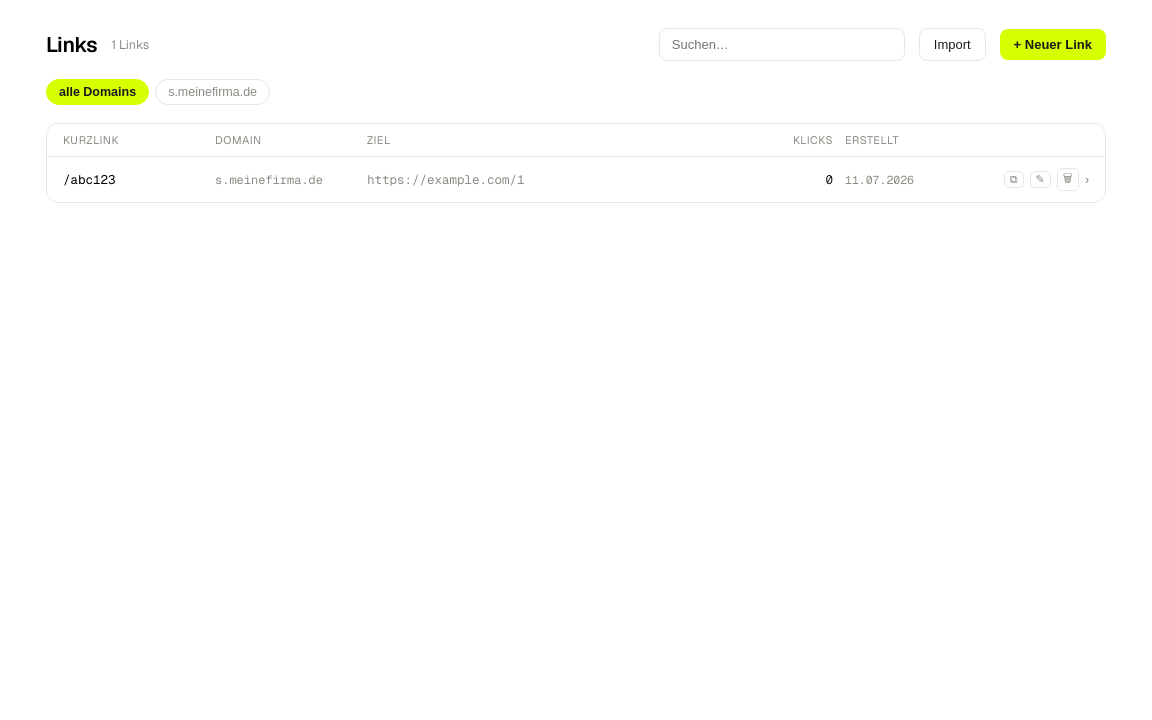
LinksView › edit mode renders the D-04 slug-change warning and saves via updateLink
Click the button titled "Bearbeiten" at (1040, 180), box [1030, 171, 1051, 188]
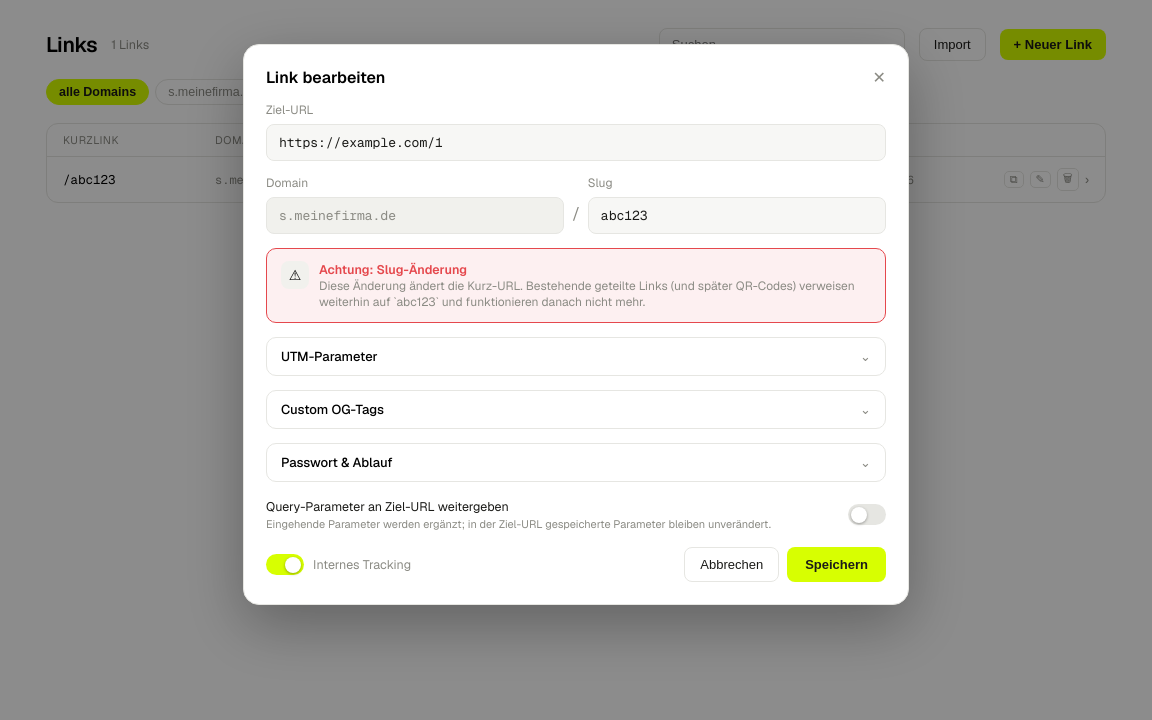
Now the text "Achtung: Slug-Änderung" is shown, box [319, 261, 467, 278]
Replace the text in the 2nd field with class "mono" with "new-slug" at (737, 216), box [588, 197, 886, 234]
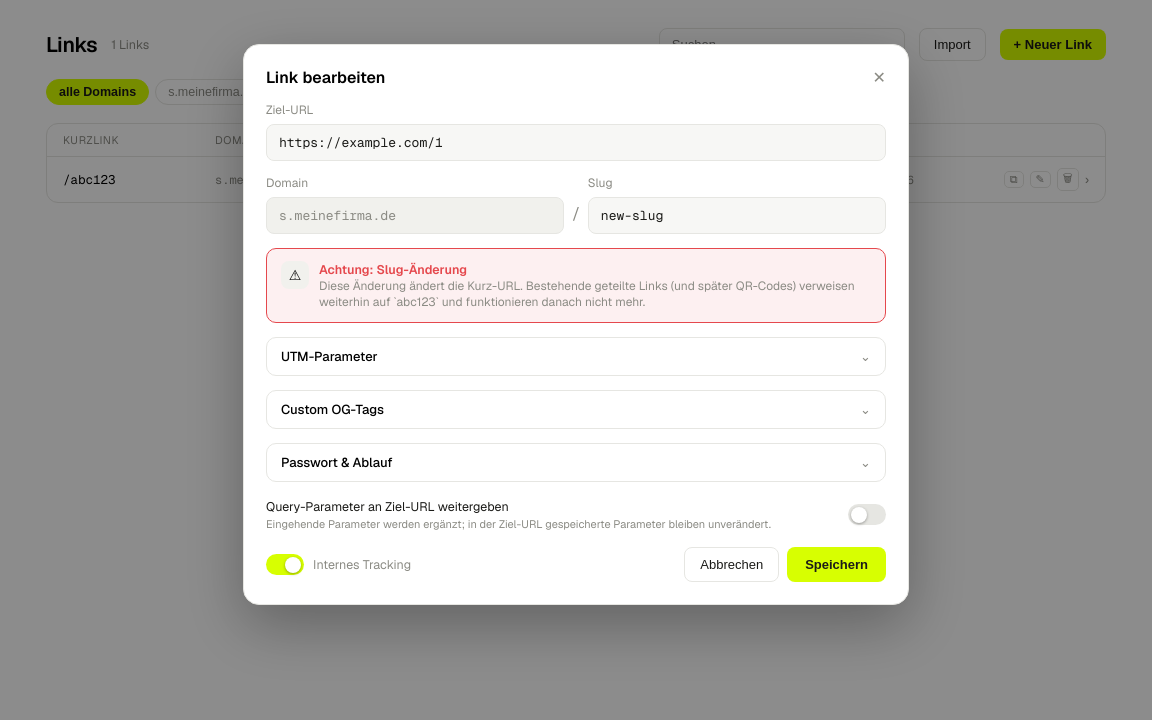
Click the button "Speichern" at (837, 564), box [787, 547, 886, 582]
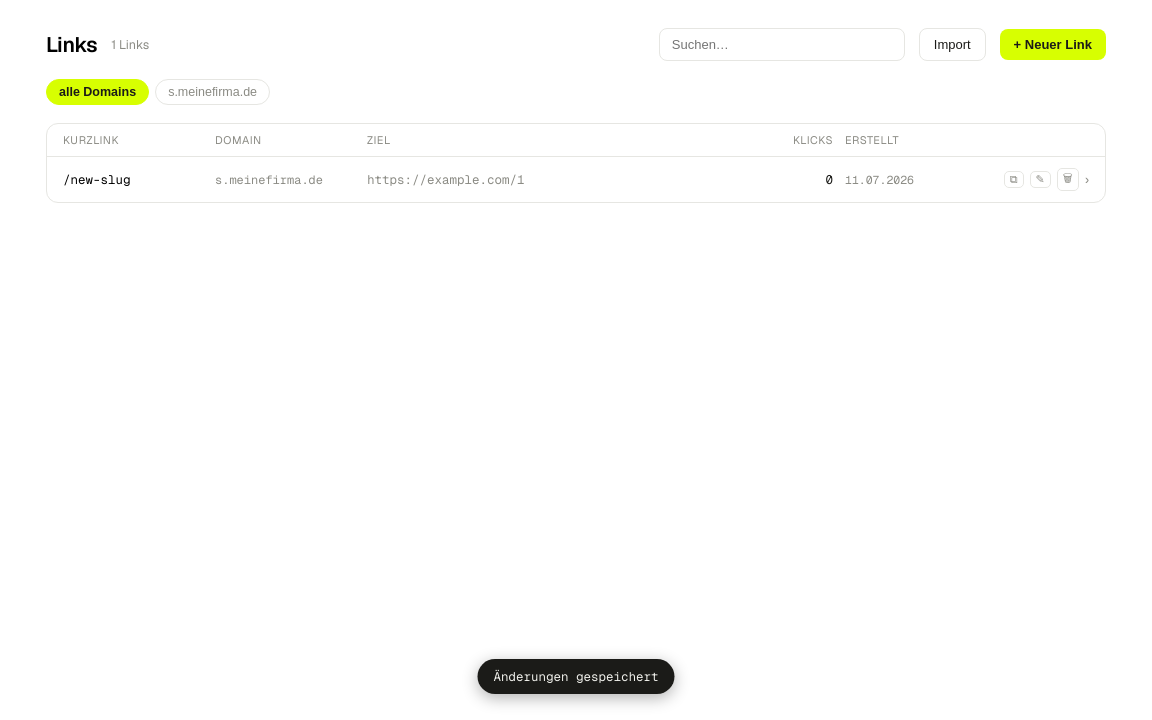
Now the text "Änderungen gespeichert" is shown, box [478, 659, 674, 694]
